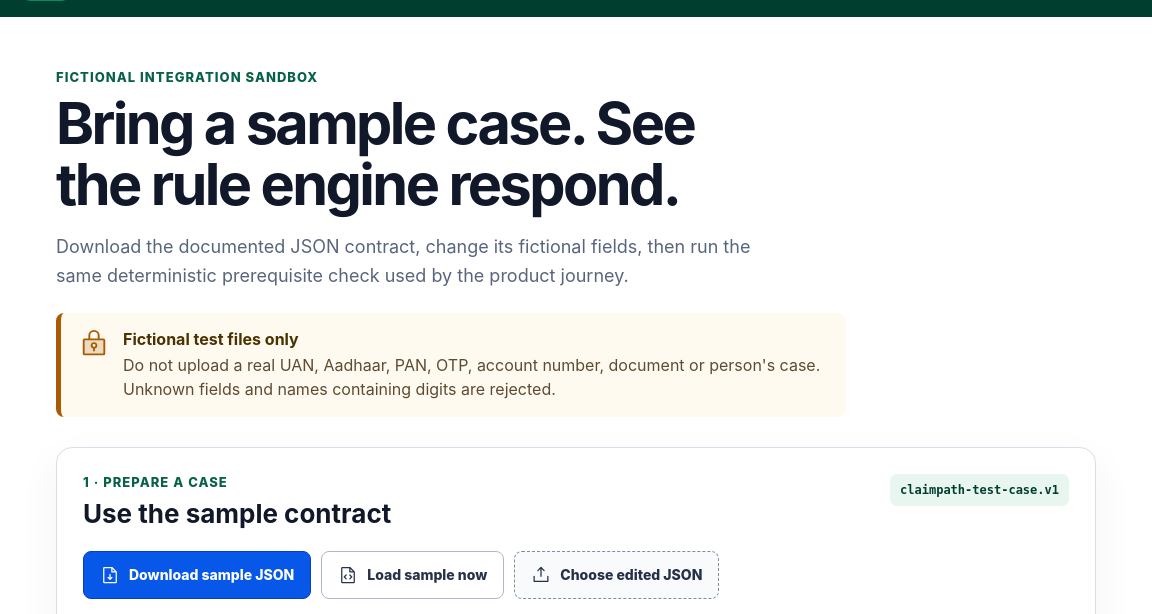
ClaimPath EPFO pre-flight › lets a reviewer load sample JSON and exercise the deterministic fallback
The image size is (1152, 614).
Expected: the heading "Bring a sample case. See the rule engine respond." is shown, [56,88,694,219]
Expected: the link "Download sample JSON" is shown, [83,551,311,599]
Click the button "Load sample now" at (413, 575), box [321,551,504,599]
(page scrolled)
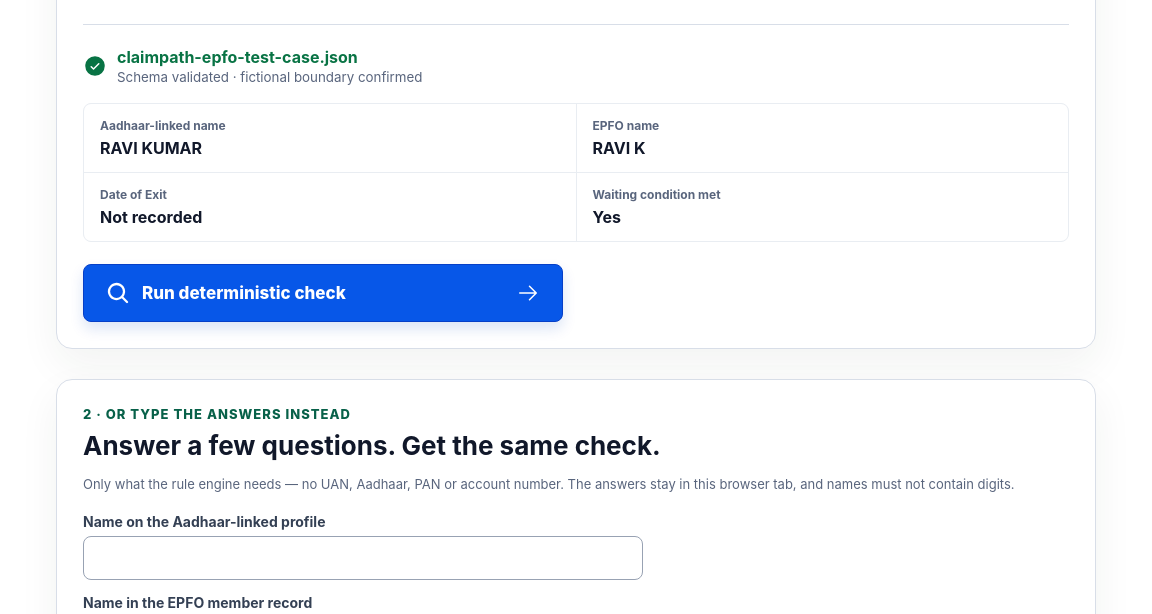
Now the text "claimpath-epfo-test-case.json" is shown, box [117,47,358,67]
Click the button "Run deterministic check" at (323, 293), box [83,264,563,322]
(page scrolled)
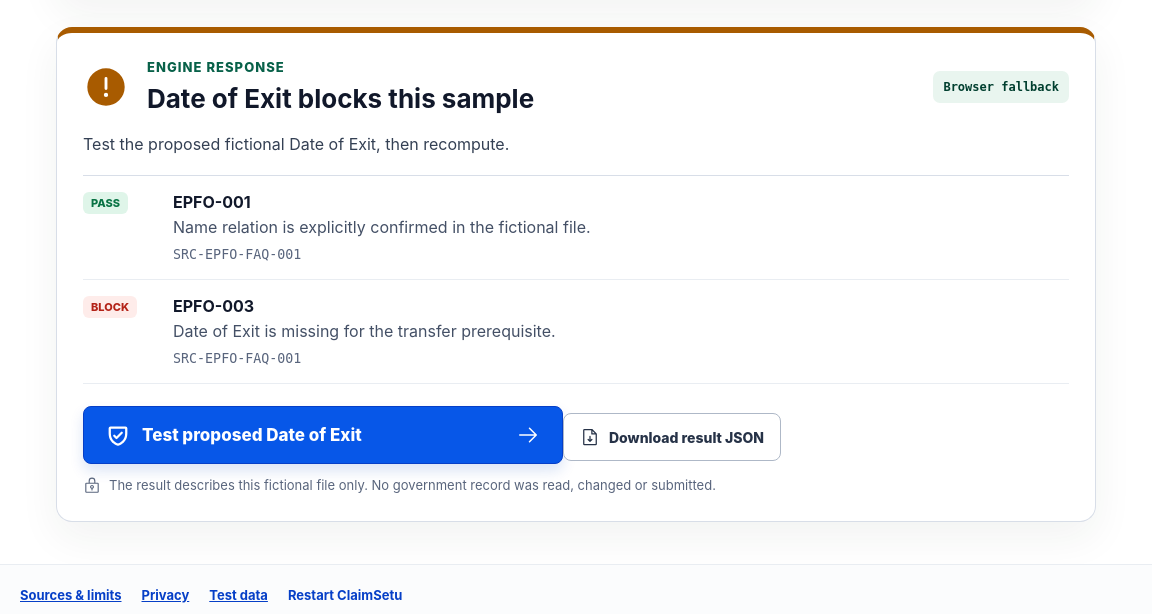
Now the heading "Date of Exit blocks this sample" is shown, box [147,83,534,114]
Now the text "Browser fallback" is shown, box [933,71,1069,103]
Click the button "Test proposed Date of Exit" at (323, 435), box [83,406,563,464]
(page scrolled)
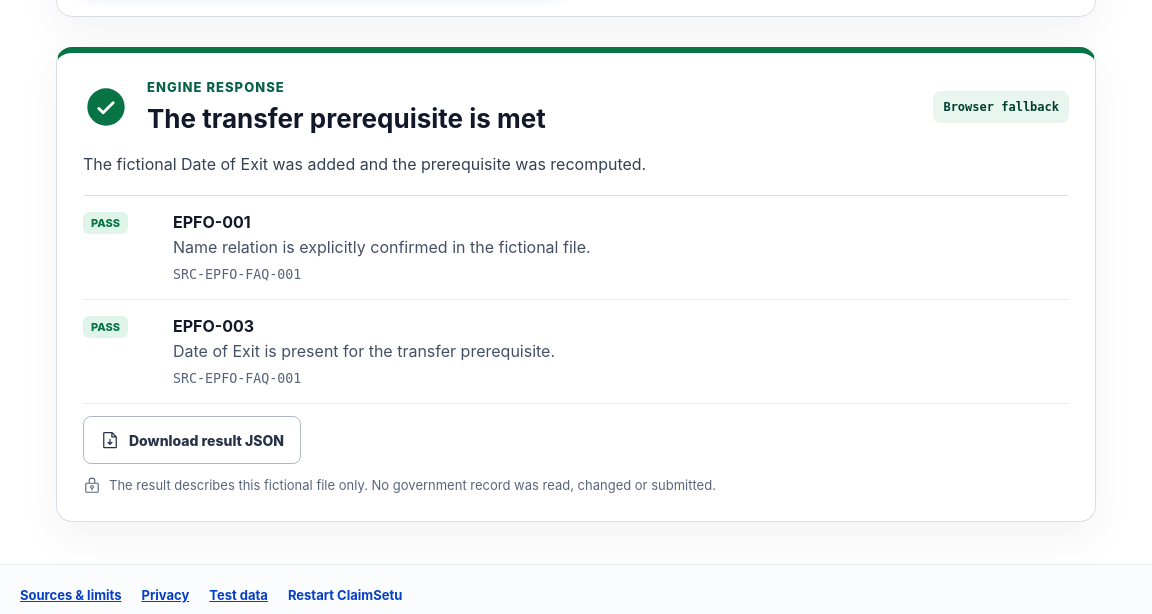
Now the text "No government record was read" is shown, box [109,477,716,493]
Now the heading "The transfer prerequisite is met" is shown, box [147,103,546,134]
